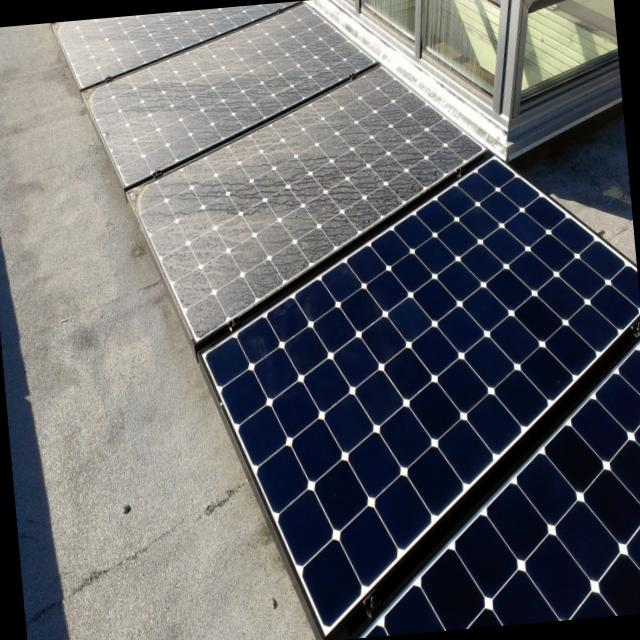faulty: (135, 70, 495, 346), (79, 5, 379, 196), (51, 3, 290, 93)
no faulty: (201, 160, 639, 639), (364, 343, 640, 637)
